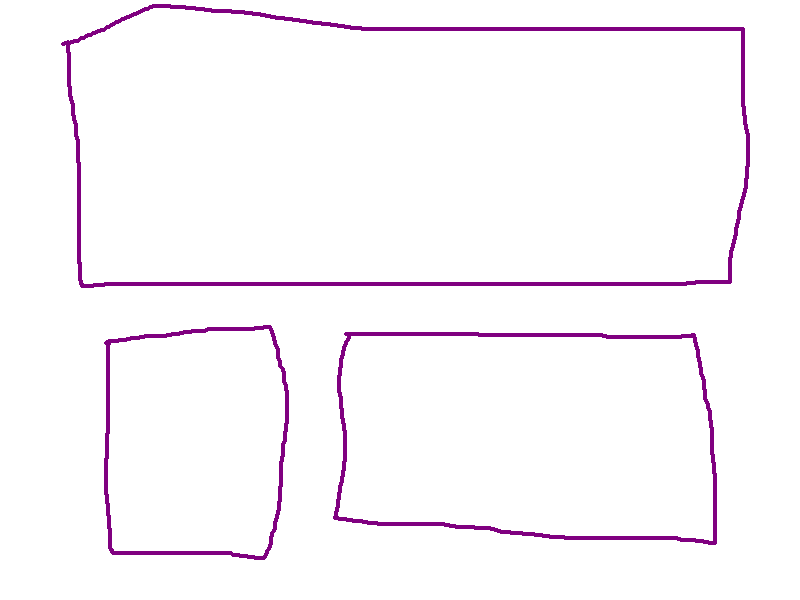rect: (57, 2, 755, 295), (327, 326, 724, 549), (94, 320, 295, 563)
